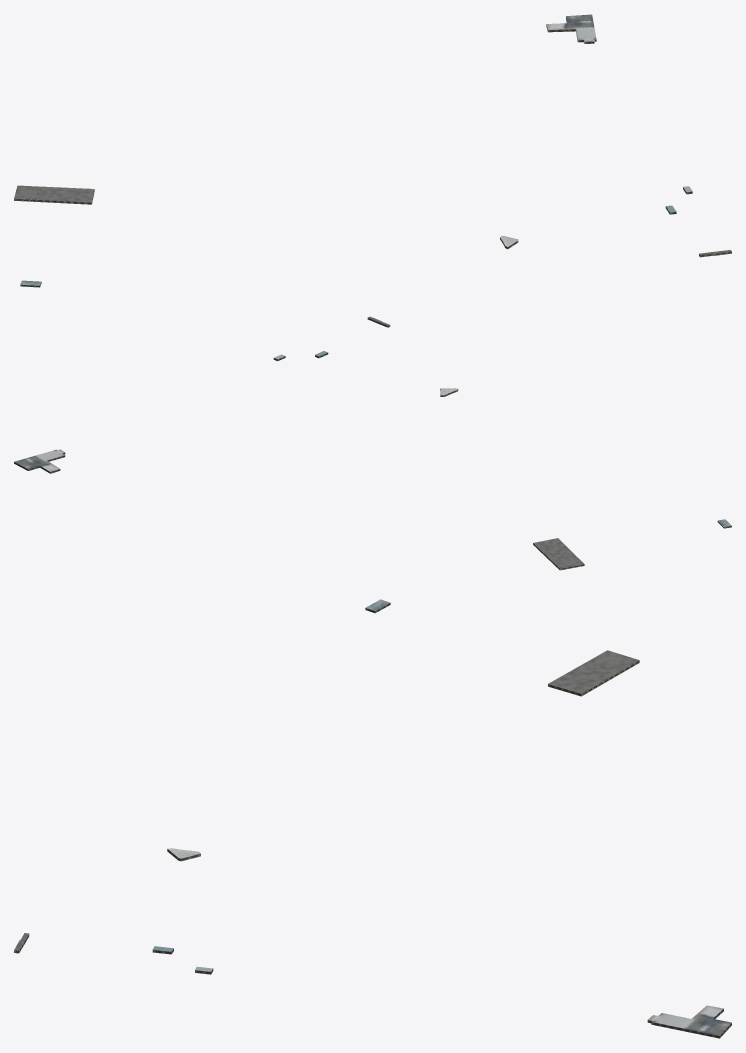
3 views of the same model, one above another, from view 1: azimuth 30°, elevation 25°; view 2: azimuth 150°, elevation 25°; view 3: azimuth 270°, elevation 25° (orthographic). The views are drawn at different scales.
Parts seen in each view (by area): view 1: SlateRoof, SlateRoof surveyed; view 2: SlateRoof, SlateRoof surveyed; view 3: SlateRoof, SlateRoof surveyed.
Part boxes in pixels (<box>): SlateRoof: <box>14,15,731,253</box>; SlateRoof surveyed: <box>546,14,692,212</box>; SlateRoof: <box>19,316,583,568</box>; SlateRoof surveyed: <box>14,351,327,471</box>; SlateRoof: <box>14,650,730,1035</box>; SlateRoof surveyed: <box>153,946,731,1035</box>.
Bounding box in the file's own units: 1722 × 5.23 × 1195.
8 materials, 8 textured.
